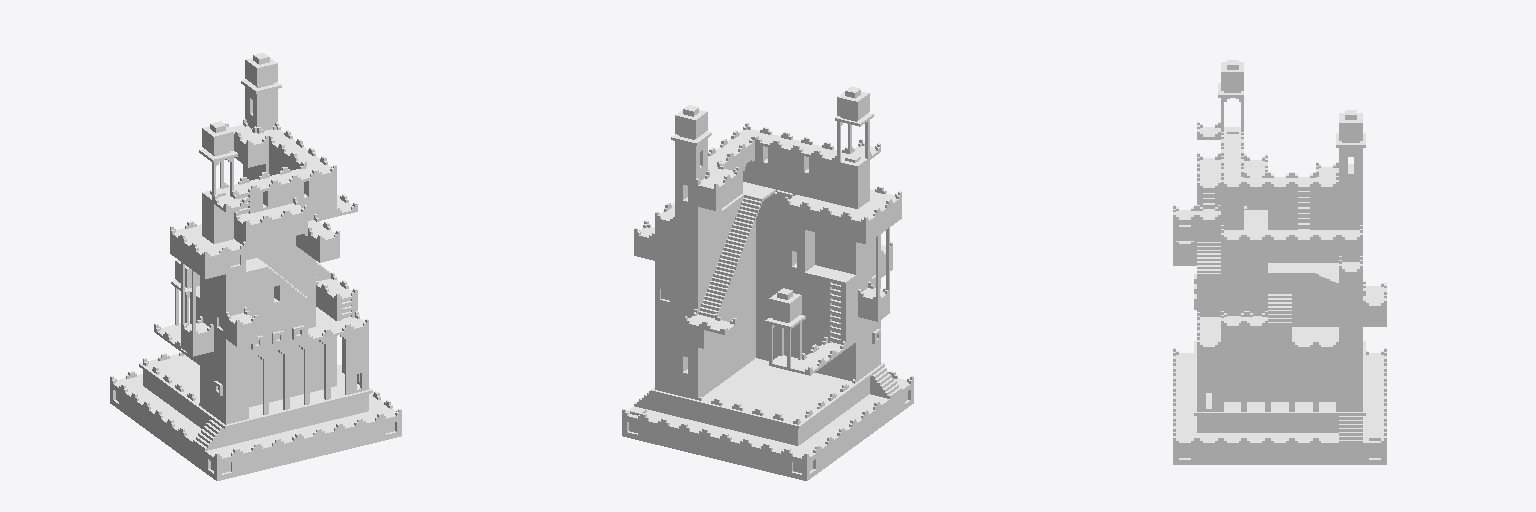
Rendered from castellprova.obj.
3 views of the same model, side by side, from view 1: azimuth 30°, elevation 25°; view 2: azimuth 150°, elevation 25°; view 3: azimuth 270°, elevation 25° (orthographic).
Visible parts, largest first — view 1: object 1; view 2: object 1; view 3: object 1.
Part boxes in pixels (x1,y1,x2,y2): object 1: (110, 53, 401, 480); object 1: (622, 86, 913, 480); object 1: (1173, 60, 1386, 464).
Size of the model in its own units: 7.2 by 12.2 by 7.2.